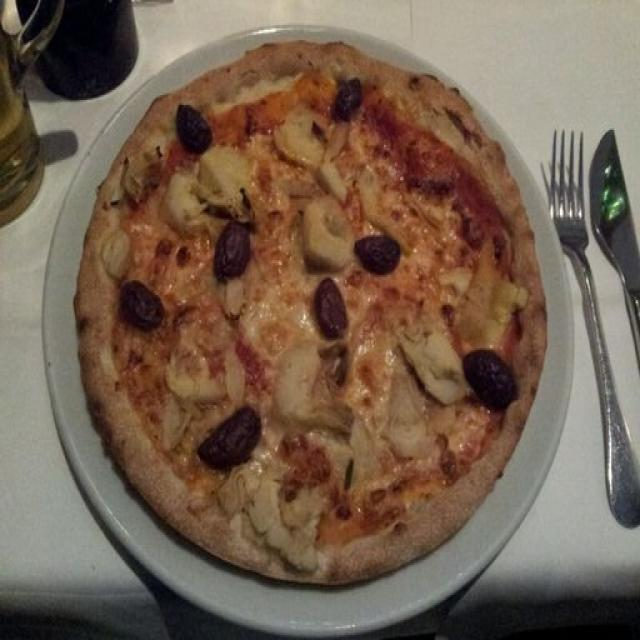Mushrooms: (222, 464, 325, 561), (376, 387, 434, 467), (272, 348, 330, 423), (267, 103, 328, 173), (403, 339, 461, 405), (300, 197, 350, 272), (196, 150, 247, 217), (160, 166, 205, 237), (156, 359, 222, 403), (213, 330, 251, 400), (97, 225, 132, 282), (318, 151, 349, 195)
Olives: (195, 404, 262, 471), (469, 357, 519, 411), (304, 274, 342, 343), (215, 213, 248, 288), (355, 234, 405, 276), (118, 280, 163, 324), (175, 105, 215, 148), (332, 72, 364, 116)
Pizza: (75, 43, 545, 580)
